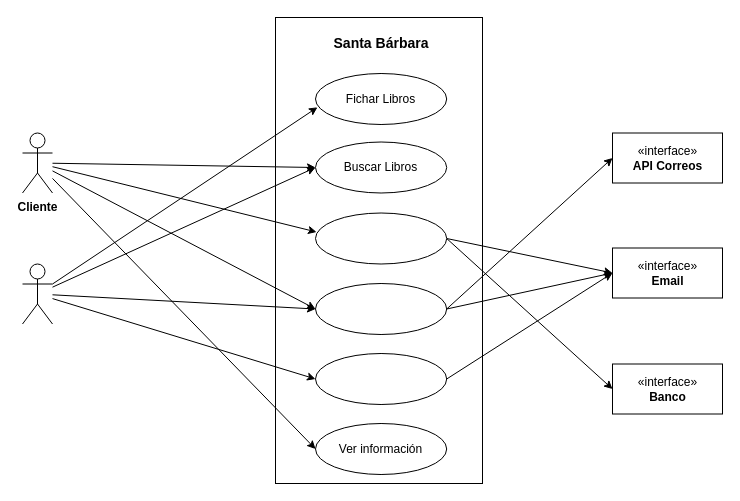
Some shapes in this 740 by 501 pixel diagram are drawn without their labels. Each missing label, with the box of its shape:
Admin: (22, 263, 52, 324)
Comprar: (314, 212, 447, 264)
Facturación: (314, 352, 447, 404)
Manejar pedidos: (314, 282, 447, 334)
